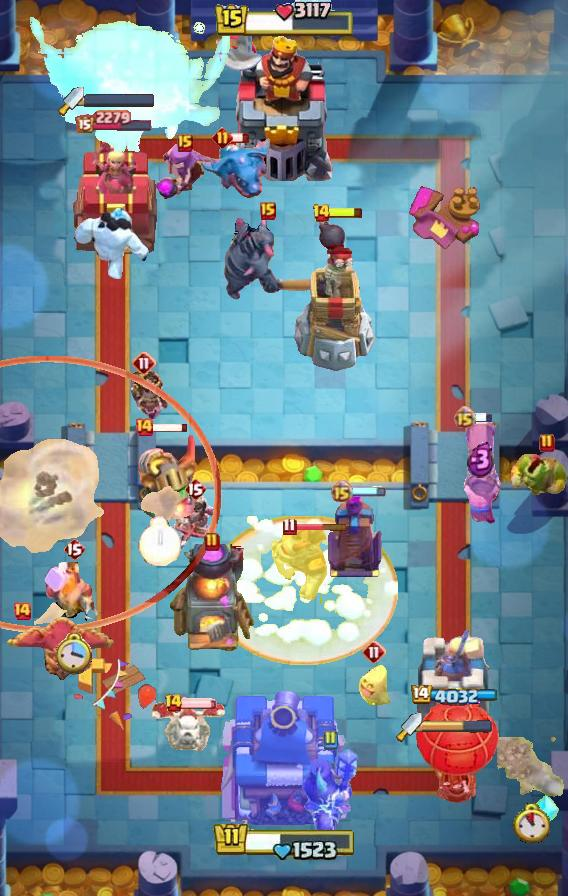bar: (70, 138, 158, 256), (414, 623, 492, 731)
bat-evolution: (357, 662, 391, 706)
battle-healer: (458, 421, 504, 525)
bomber-evolution: (118, 367, 170, 421)
cannon-cart: (415, 702, 499, 804)
clock: (212, 818, 356, 860), (213, 0, 355, 40)
electro-spirit: (467, 441, 495, 479)
elixir: (138, 516, 181, 566), (55, 633, 93, 676), (514, 803, 551, 843)
elixir-golem-small: (272, 525, 330, 603)
emote: (294, 522, 348, 531), (328, 205, 364, 218), (180, 697, 218, 709), (152, 423, 189, 434), (350, 486, 386, 497), (230, 132, 250, 144), (475, 412, 494, 424)
fisherman: (498, 737, 567, 799)
flying-machine: (510, 449, 568, 503)
golemite: (220, 209, 316, 301)
graveyard: (197, 135, 275, 199)
hunter: (168, 544, 256, 654)
ice-spirit-evolution-symbol: (325, 487, 385, 579)
inferno-dragon: (301, 747, 359, 841)
king-tower: (214, 684, 354, 826), (223, 31, 345, 181)
king-tower-bar: (84, 93, 156, 107), (422, 720, 492, 734)
mega-knight: (30, 4, 252, 178)
mighty-miner: (43, 562, 105, 628)
mini-pekka: (147, 700, 229, 754)
mother-witch: (0, 614, 114, 682)
night-witch: (118, 429, 200, 523)
pad_2: (532, 792, 560, 826)
phoenix-big: (208, 515, 399, 665)
rage: (72, 201, 152, 283)
rascal-girl: (153, 141, 217, 203)
royal-ghost: (0, 355, 220, 632)
royal-giant: (209, 15, 265, 73)
selected: (409, 685, 497, 707), (74, 109, 154, 133)
skeleton-dragon: (171, 491, 219, 553)
text: (132, 351, 156, 375), (362, 640, 386, 664), (452, 406, 475, 430), (331, 480, 354, 504), (184, 477, 206, 501), (63, 537, 85, 561), (211, 127, 233, 149), (134, 417, 154, 437), (12, 601, 32, 621), (164, 693, 184, 713), (312, 203, 331, 223), (539, 433, 555, 453), (204, 532, 220, 552), (322, 730, 338, 750), (177, 134, 193, 152), (260, 202, 276, 220), (282, 517, 297, 536)
zappy: (290, 215, 377, 373)
